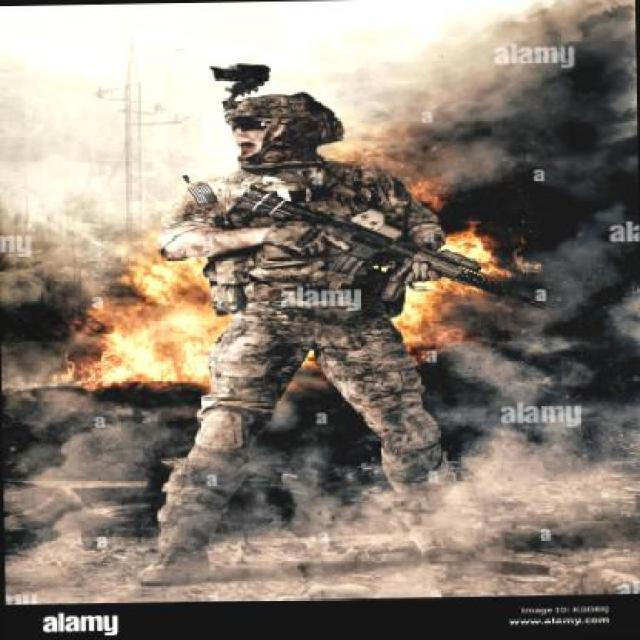MIL_Pax: (120, 85, 454, 589)
